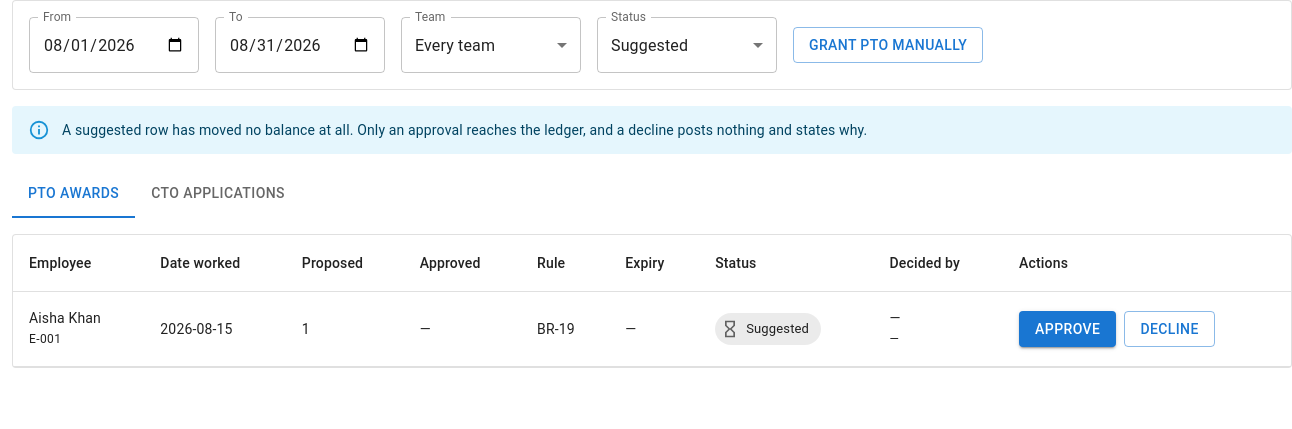
Test: PtoCandidates › shows CTO applications with the BR-26 block marked where it was overridden
Click the tab "CTO applications" at {"x": 218, "y": 194}, box [135,170,301,218]
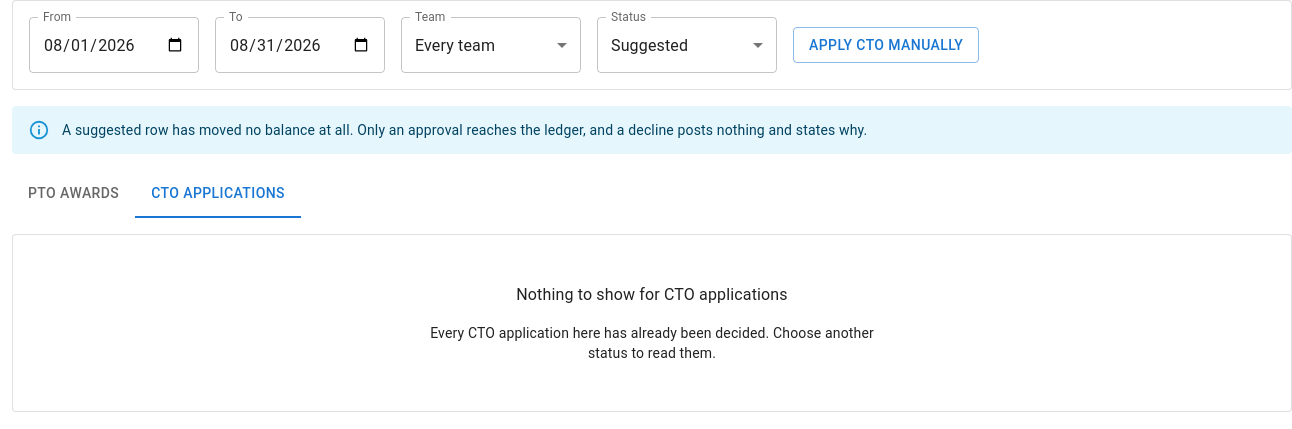
Click the dropdown named "status" at {"x": 650, "y": 45}, box [611,36,688,54]
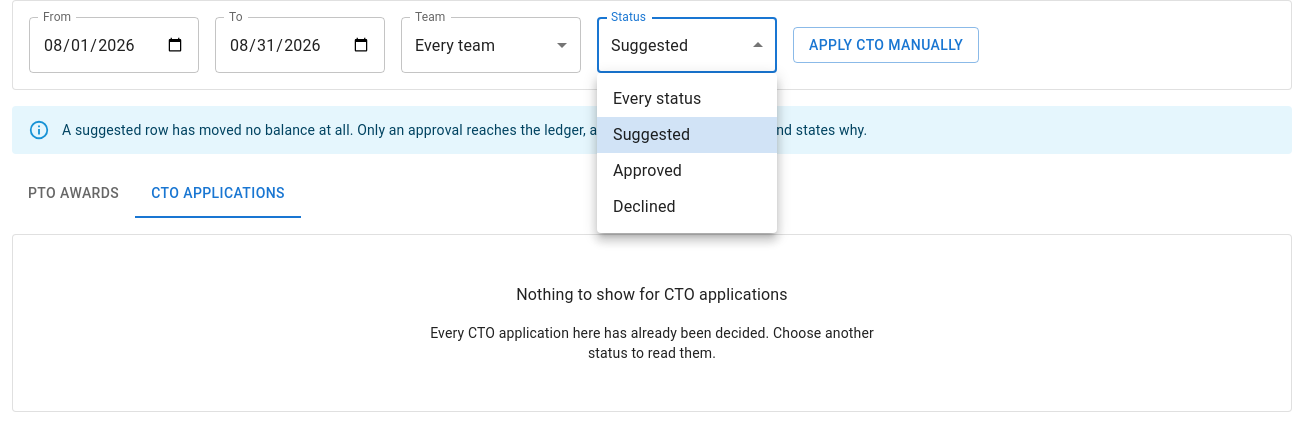
Click the option "Every status" at {"x": 657, "y": 98}, box [613,89,701,108]
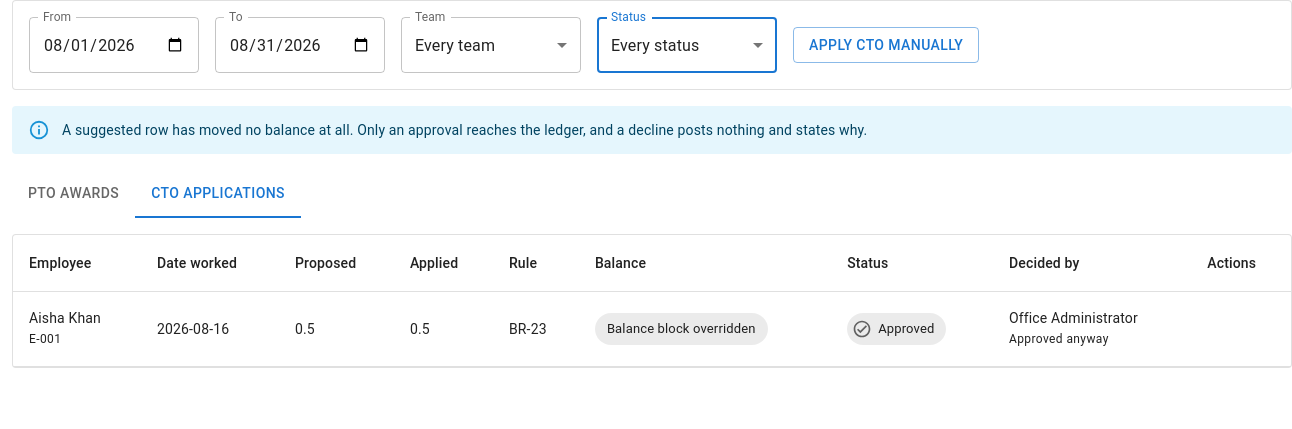
Expected: the text "BR-23" is shown, [509,321,547,337]
Expected: the text "Balance block overridden" is shown, [595,319,768,339]
